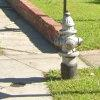a fire hydrant: (59, 12, 85, 82)
